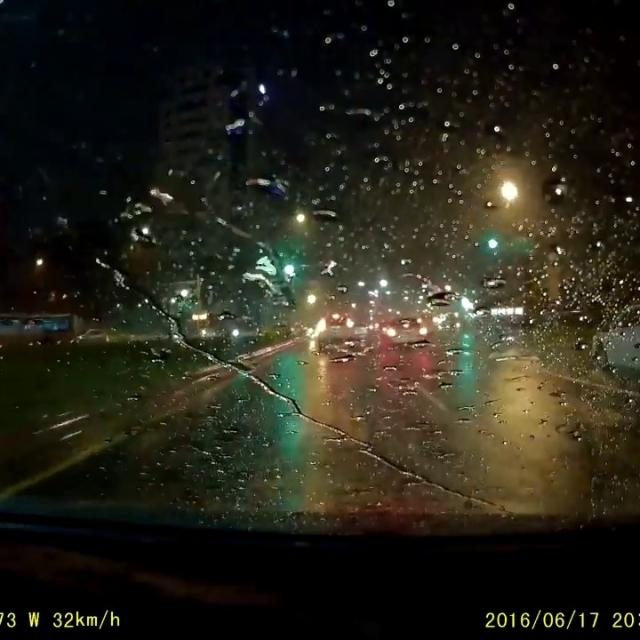Car: (588, 300, 639, 368), (376, 312, 427, 347), (313, 308, 356, 342), (69, 323, 107, 346)
